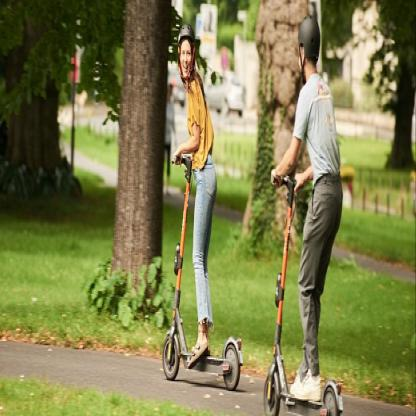scooter: (264, 169, 345, 415), (162, 151, 243, 391)
with helmet: (297, 13, 321, 88), (177, 22, 196, 83)
